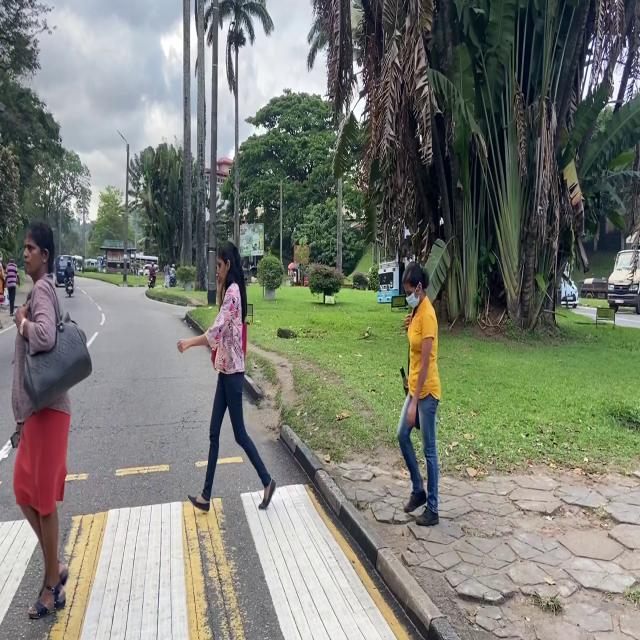bus: (377, 248, 404, 303), (130, 252, 158, 267)
car: (561, 280, 578, 308)
motorcycle: (66, 278, 74, 297), (169, 276, 178, 287), (148, 276, 155, 289)
person: (12, 222, 92, 620), (178, 245, 275, 511), (398, 263, 441, 526), (6, 259, 20, 316), (64, 260, 74, 290), (0, 254, 5, 306), (164, 263, 170, 288), (404, 252, 412, 270), (149, 264, 156, 280), (169, 264, 175, 277)
truck: (608, 249, 640, 314), (579, 278, 608, 299)
van: (56, 255, 72, 287)
